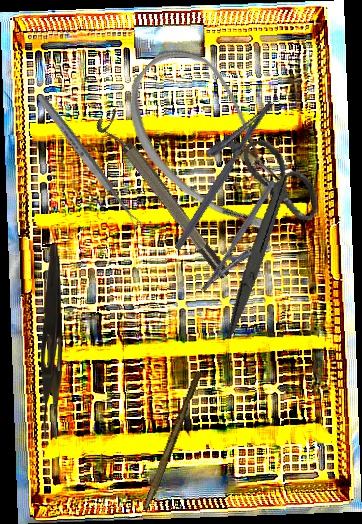Cannula: (101, 32, 324, 251)
Dressing Forceps: (39, 244, 65, 440)
Fixation Ring: (92, 107, 234, 288)
Iris Scissors: (178, 129, 347, 337)
Needle Holder: (153, 86, 276, 252), (199, 179, 292, 303)
Scalpel Handle: (142, 369, 203, 513)
Surgical Spoon: (35, 92, 144, 232)
